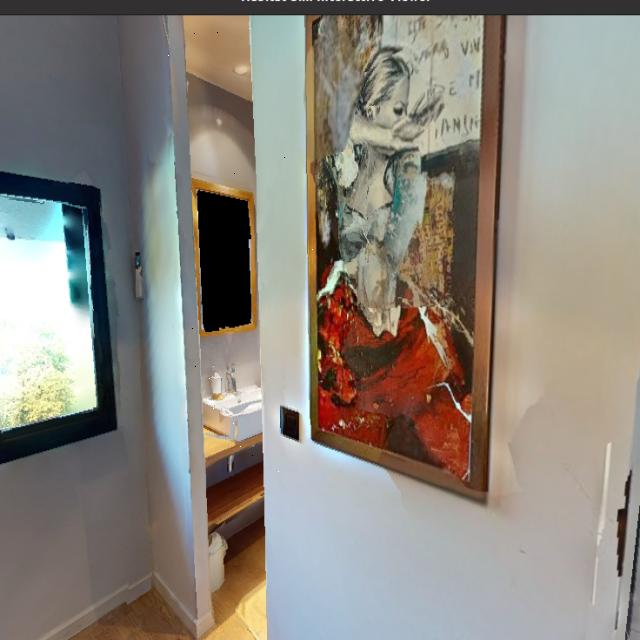door-frame: (163, 21, 320, 640)
sink: (193, 347, 266, 451)
